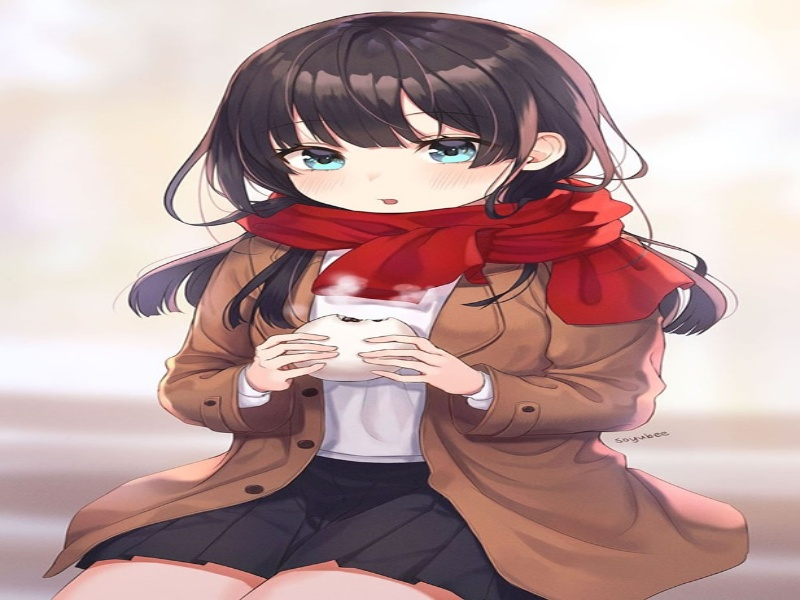dress: (77, 422, 552, 600)
person: (200, 1, 621, 244)
